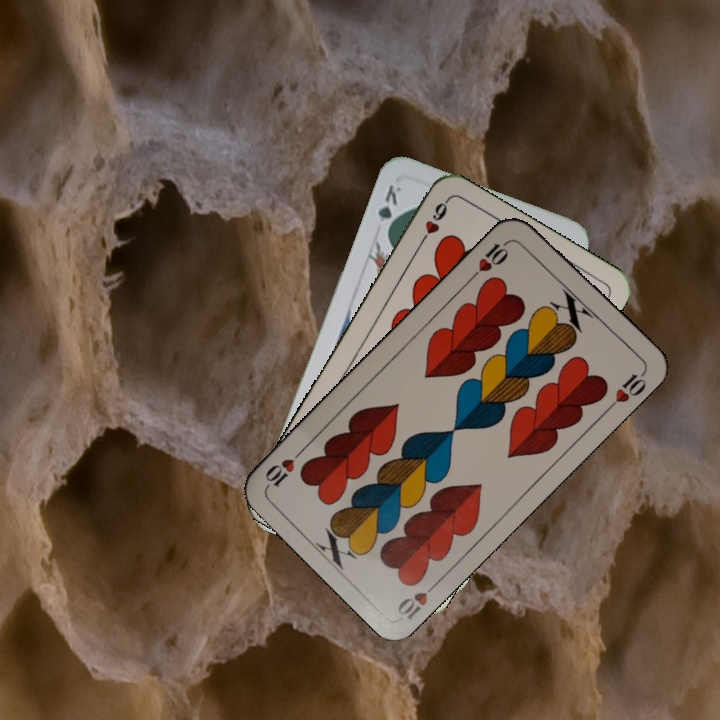GK: (372, 180, 405, 238)
H10: (393, 575, 443, 622), (467, 236, 513, 282)
H9: (414, 196, 451, 249)
